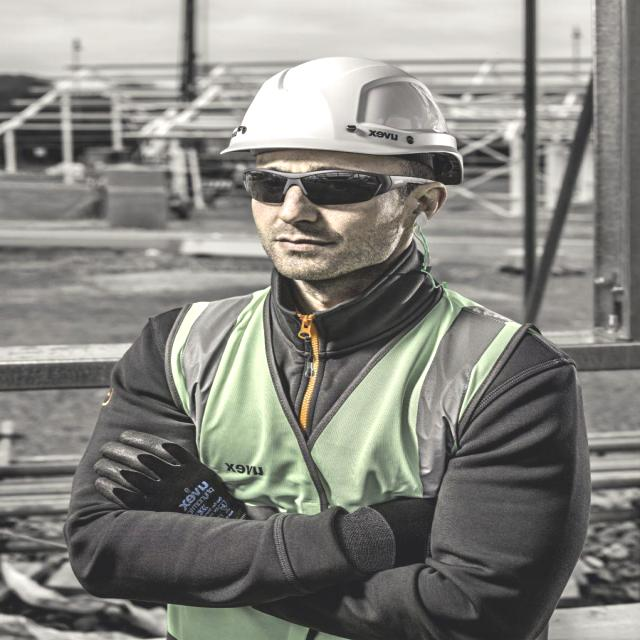face_nomask: (225, 152, 388, 294)
glasses: (239, 163, 405, 209)
hand_glove: (94, 422, 234, 517)
head_helmet: (217, 54, 462, 161)
person: (85, 51, 577, 640)
vest: (159, 282, 526, 638)
